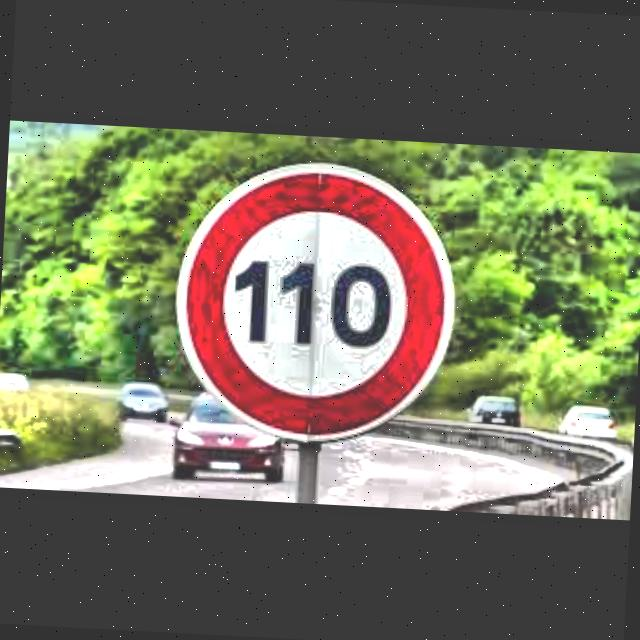speed_110: (180, 164, 452, 440)
